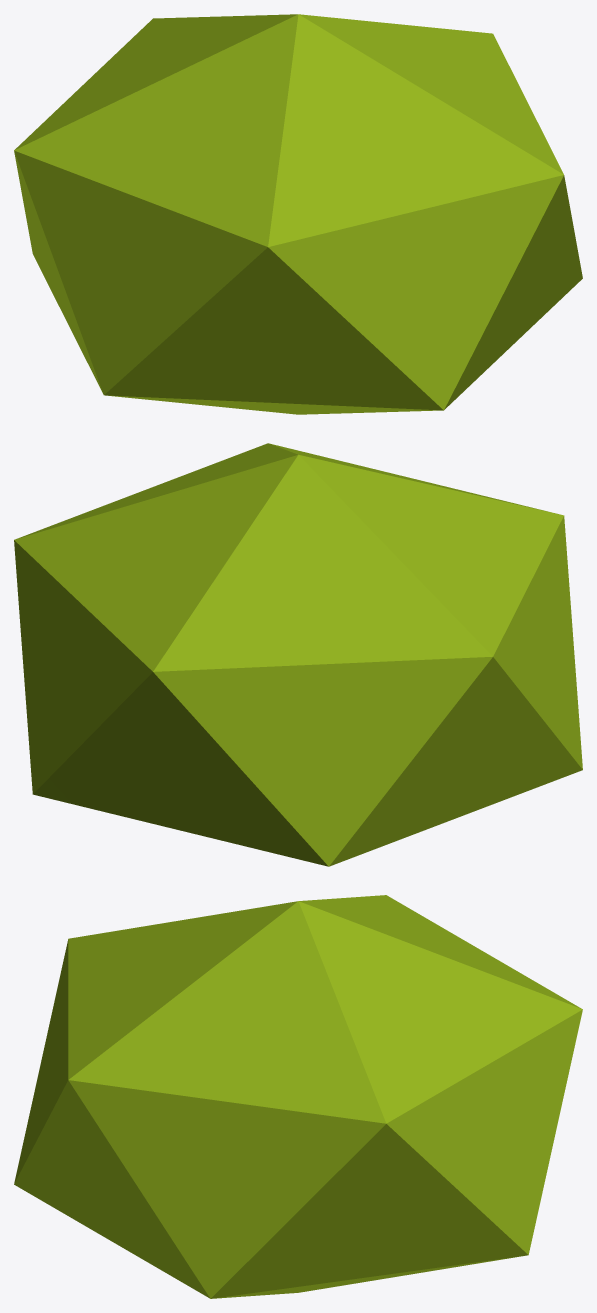
The model's file is Vegetation_Modular_Tree_Foliage_Clump_Large_01.fbx.
3 views of the same model, one above another, from view 1: azimuth 30°, elevation 25°; view 2: azimuth 150°, elevation 25°; view 3: azimuth 270°, elevation 25° (orthographic). The views are drawn at different scales.
Visible parts, largest first — view 1: Vegetation_Modular_Tree_Foliage_Clump_Large_01; view 2: Vegetation_Modular_Tree_Foliage_Clump_Large_01; view 3: Vegetation_Modular_Tree_Foliage_Clump_Large_01.
Boxes of the visible parts, bbox=[...] form: Vegetation_Modular_Tree_Foliage_Clump_Large_01: bbox=[14, 14, 582, 414]; Vegetation_Modular_Tree_Foliage_Clump_Large_01: bbox=[14, 443, 582, 866]; Vegetation_Modular_Tree_Foliage_Clump_Large_01: bbox=[14, 895, 582, 1298].
Bounding box in the file's own units: 2444 × 1952 × 2570.
